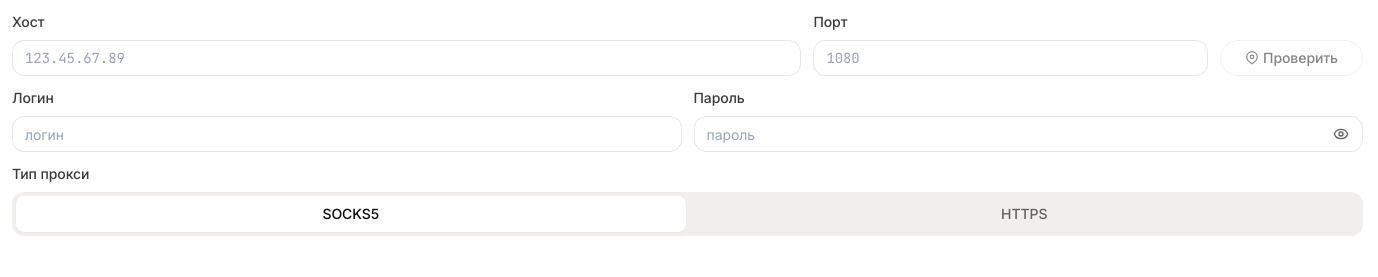
Test: clearing a host that showed an error clears the error too
This screenshot has width=1378, height=277.
Type "1.2.3" into the field with placeholder "123.45.67.89" at [407, 58], box top-left (12, 40), bottom-right (801, 76)
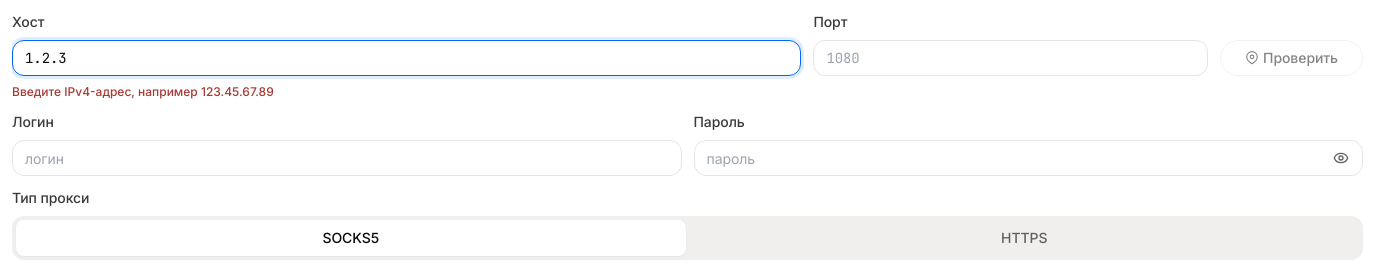
Press Tab
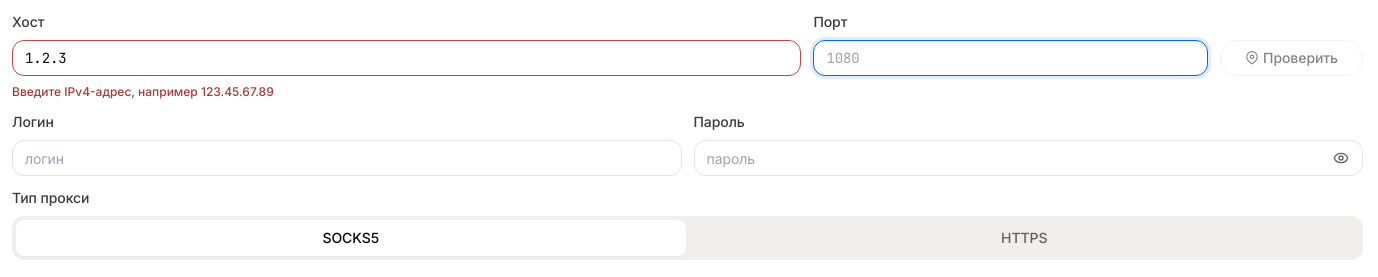
Expected: the text "Введите IPv4-адрес, например 123.45.67.89" is shown, top-left (12, 84), bottom-right (274, 99)
Clear the field with placeholder "123.45.67.89" at [407, 58], box top-left (12, 40), bottom-right (801, 76)
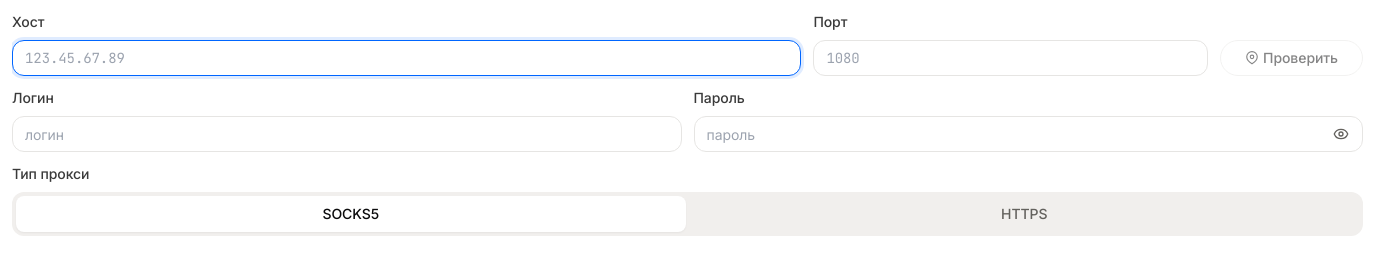
Expected: the text "Введите IPv4-адрес" is gone
